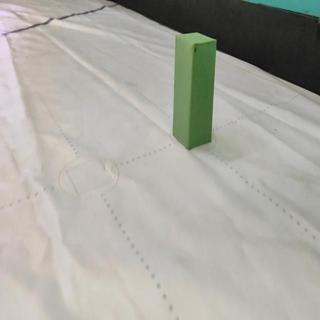greenbox: (173, 31, 216, 152)
